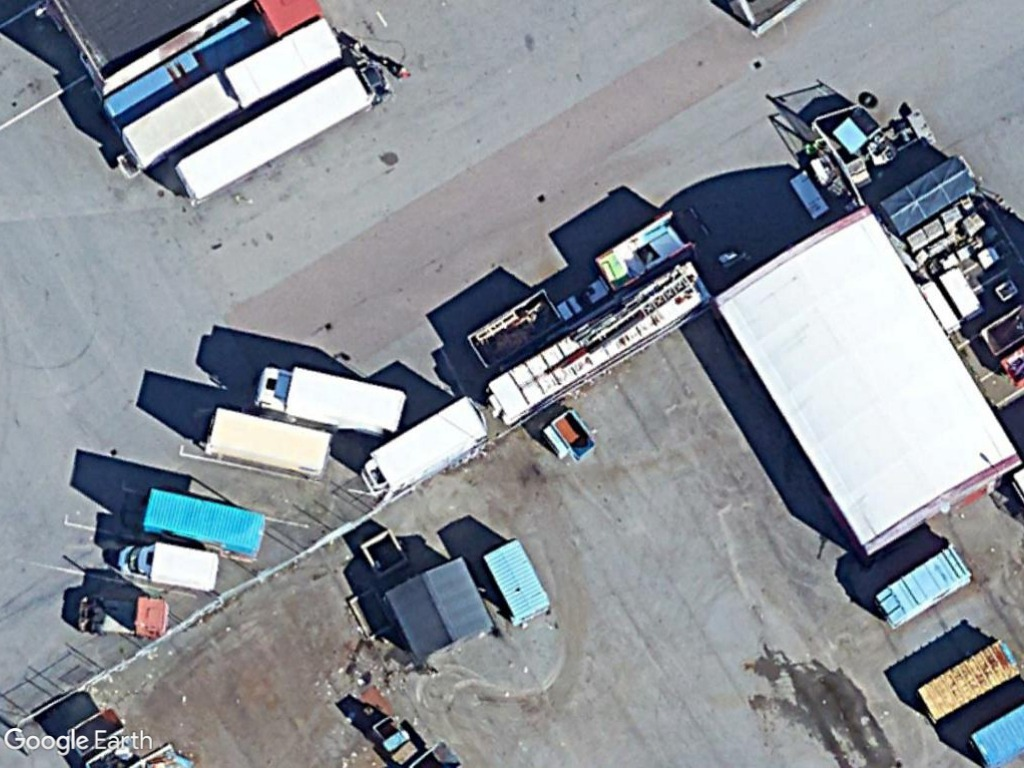truck: (358, 395, 490, 500), (252, 361, 410, 444), (114, 540, 229, 597)
